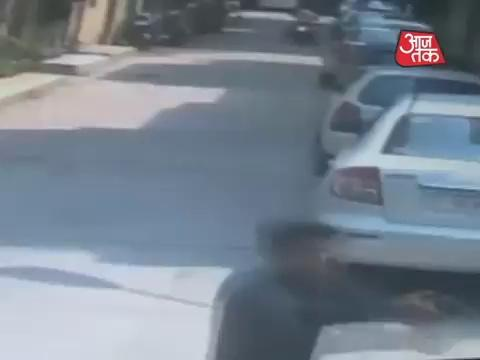weapon: (426, 285, 471, 322)
